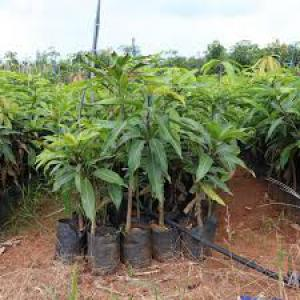Tree: (36, 45, 247, 268)
